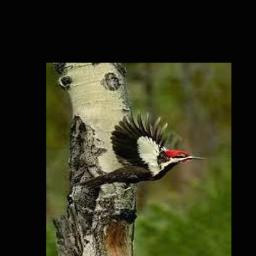Woodpecker: (74, 112, 205, 191)
